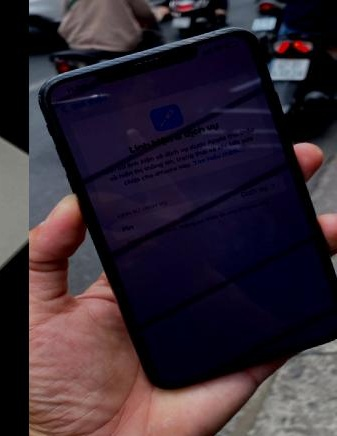physical_damage: (250, 43, 265, 85)
scratch: (37, 92, 45, 112), (85, 223, 92, 230), (93, 243, 98, 248)
